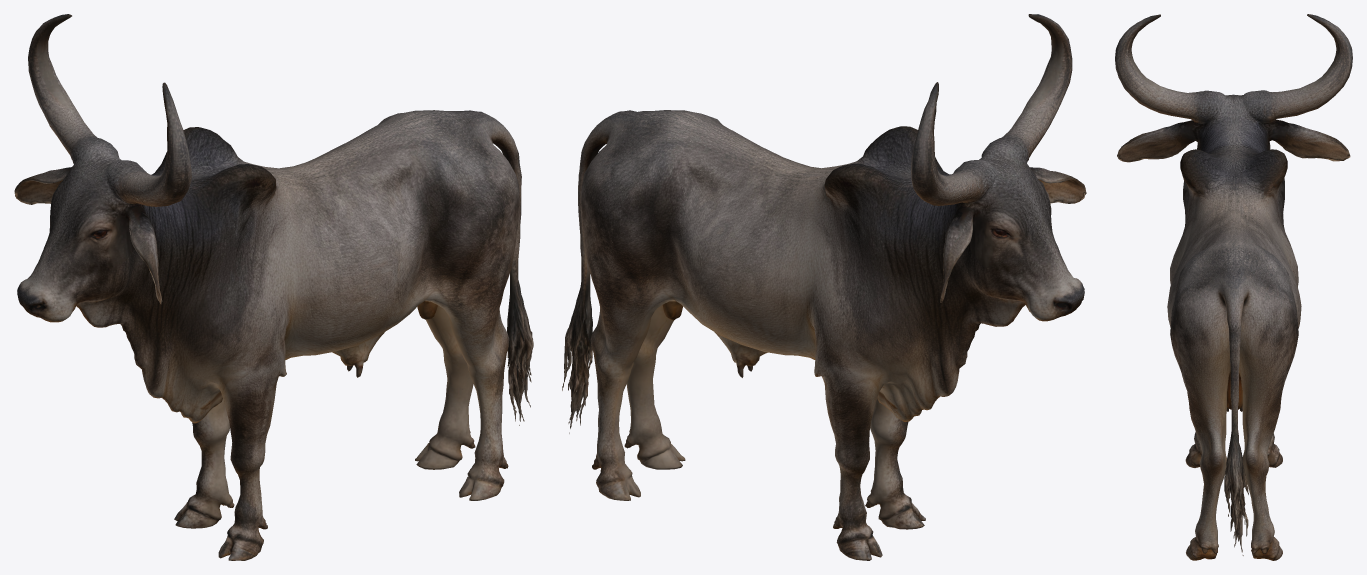
Rendered from character.glb.
3 renders of one model, left to right at view 1: azimuth 30°, elevation 25°; view 2: azimuth 150°, elevation 25°; view 3: azimuth 270°, elevation 25°, orthographic. The views are drawn at different scales.
Parts seen in each view (by area): view 1: Model; view 2: Model; view 3: Model.
Part boxes in pixels (x1,y1,x2,y2): Model: [14, 14, 533, 560]; Model: [562, 14, 1086, 560]; Model: [1115, 14, 1352, 560].
Size of the model in its own units: 1 by 0.9609 by 0.5068.
Materials: 1 (1 with a texture image).
